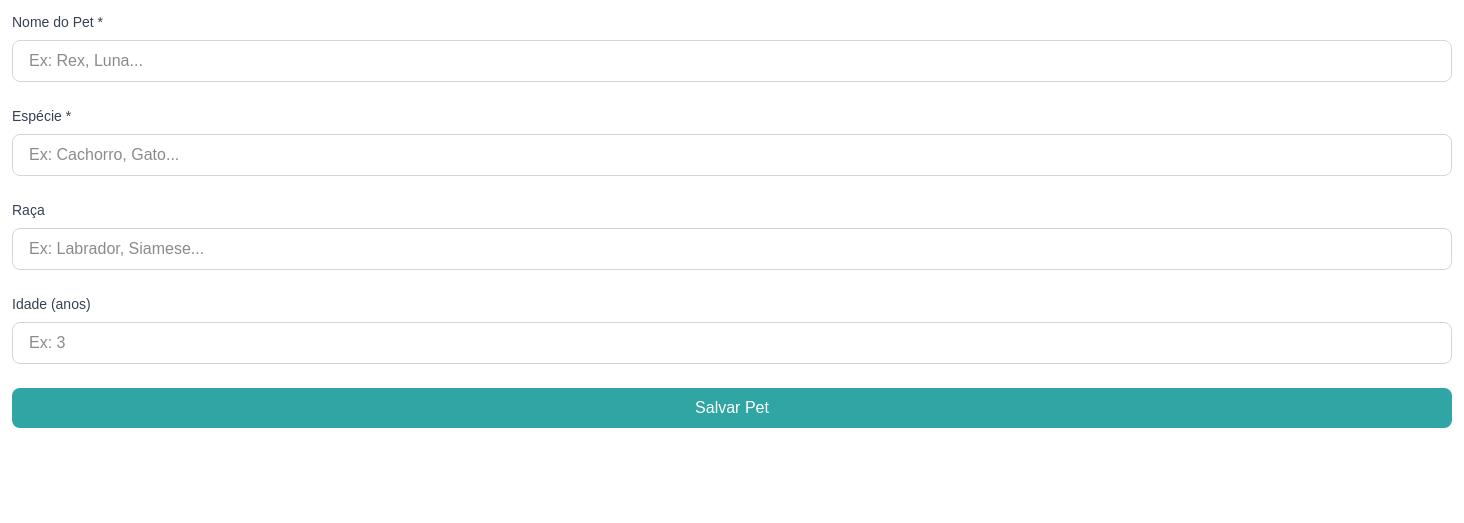
Test case: PetForm › shows validation error for missing species
Type "Rex" into the field with placeholder "Ex: Rex, Luna...".
click(732, 61); type("Rex")  # box 12,40 -> 1452,82
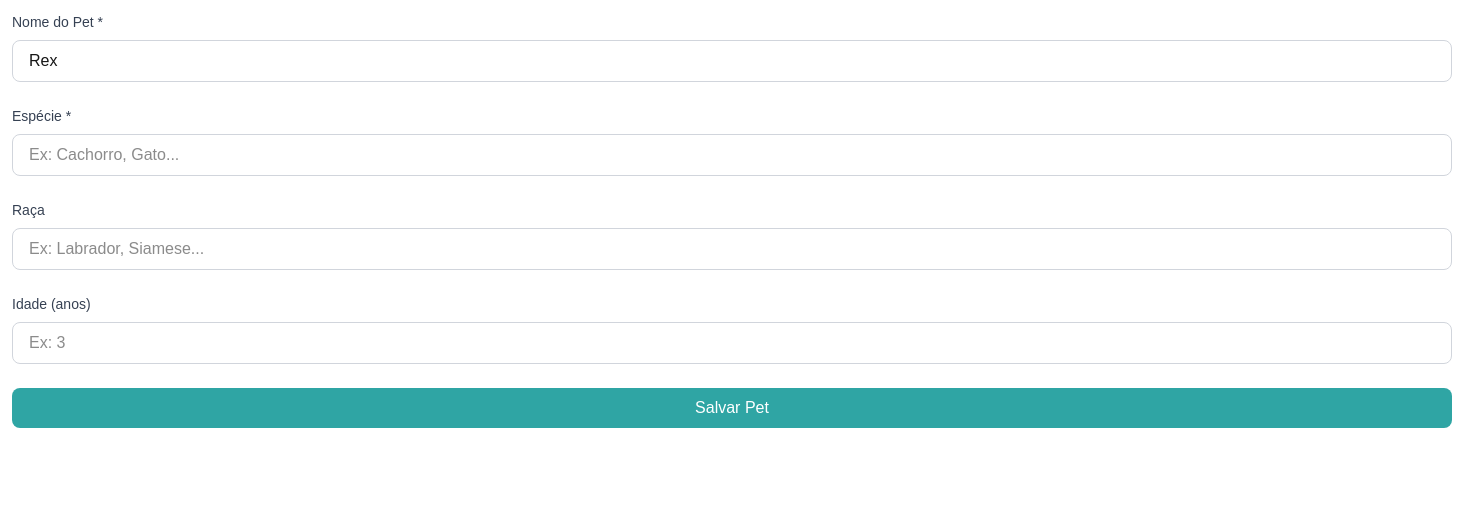
Type "Ca" into the field with placeholder "Ex: Cachorro, Gato...".
click(732, 155); type("Ca")  # box 12,134 -> 1452,176
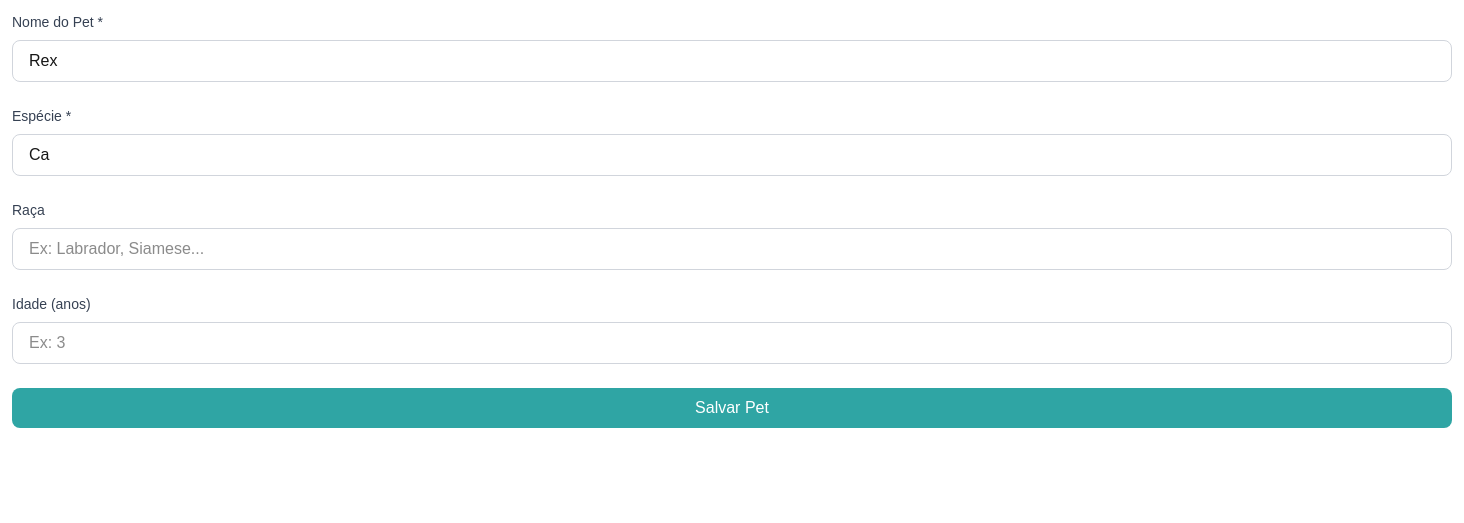
Submit the form from the button "Salvar Pet", box 12,388 -> 1452,428
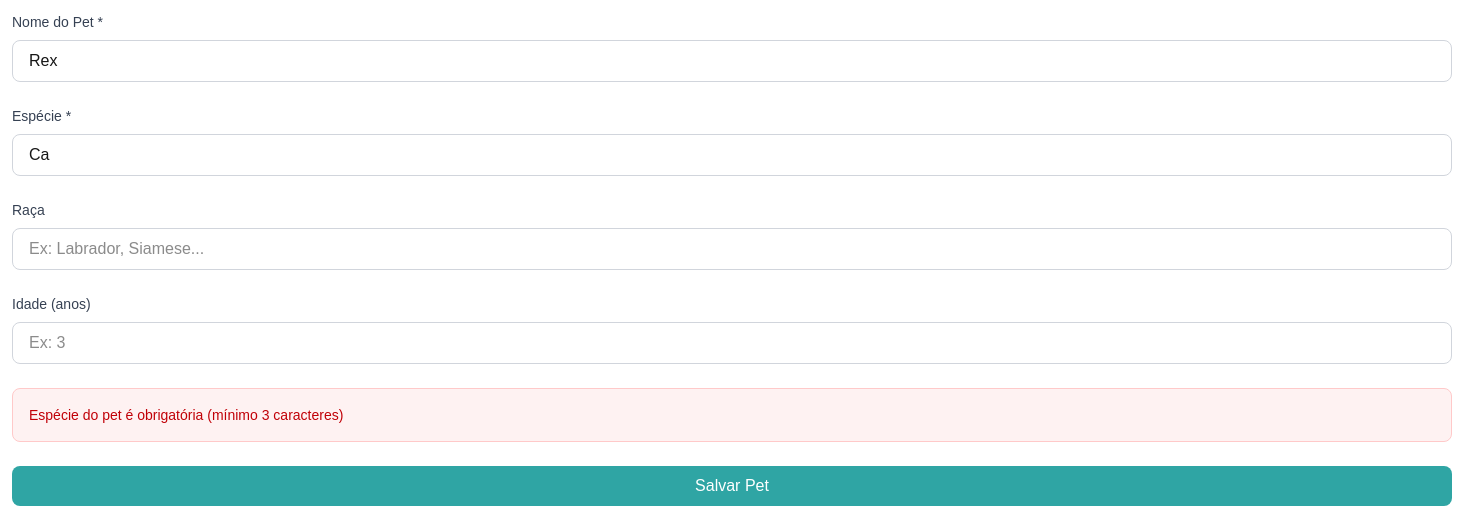
Expected: the text "Espécie do pet é obrigatória (mínimo 3 caracteres)" is shown, 29,407 -> 343,423
